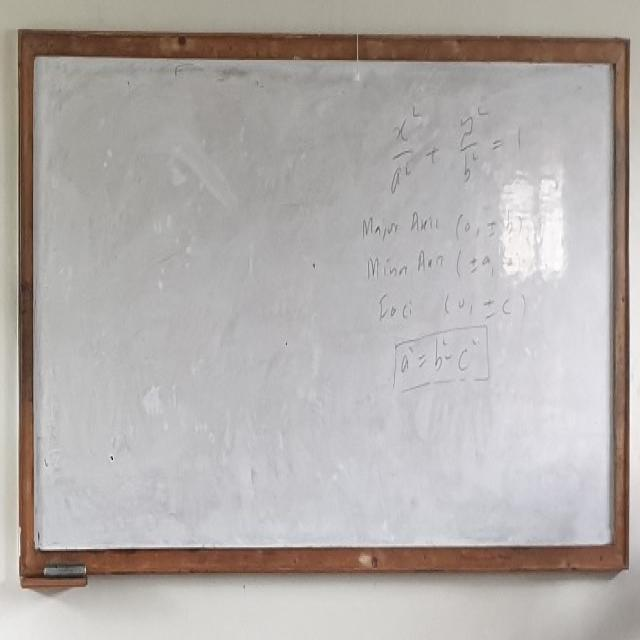White-board: (29, 41, 621, 558)
